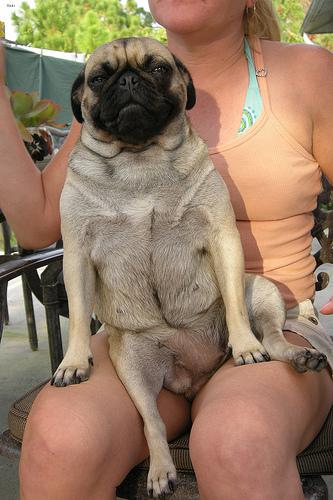dog-pug: (69, 36, 194, 132)
